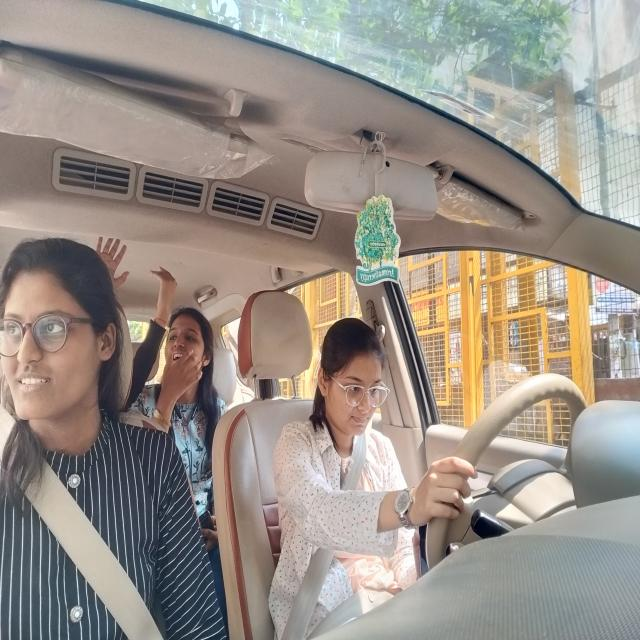person: (7, 253, 113, 413), (324, 318, 400, 445), (166, 312, 211, 378)
